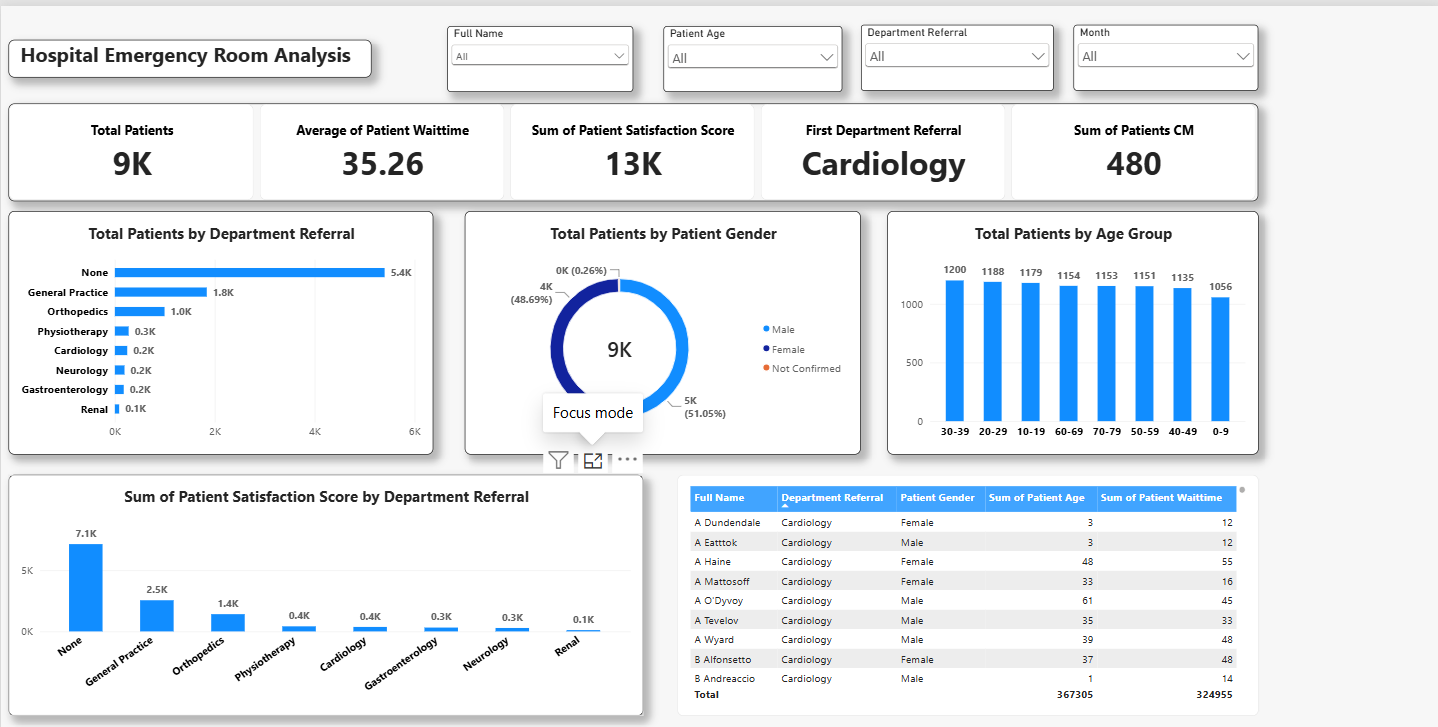

What the dashboard file says about the page in this screenshot:
{"tool":"powerbi","page":{"name":"Page 1","canvas":[1920,1080],"ordinal":0},"visuals":[{"type":"textbox","box":[10,45.7,484.3,50],"z":0},{"type":"slicer","fields":{"Values":["Hospital ER_Data.Full Name"]},"box":[595,26.7,248.3,88.3],"z":1000},{"type":"slicer","fields":{"Values":["Hospital ER_Data.Department Referral"]},"box":[1146.7,25,256.7,88.3],"z":2000},{"type":"slicer","fields":{"Values":["Hospital ER_Data.Patient Age"]},"box":[883.3,26.7,238.3,88.3],"z":3000},{"type":"slicer","fields":{"Values":["Date Table.Date.Variation.Date Hierarchy.Month"]},"box":[1430,25,246.7,88.3],"z":4000},{"type":"cardVisual","fields":{"Data":["Hospital ER_Data.Total Patients","Avg(Hospital ER_Data.Patient Waittime)","Sum(Hospital ER_Data.Patient Satisfaction Score)","Min(Hospital ER_Data.Department Referral)","Sum(Hospital ER_Data.Patients CM)"]},"box":[10,130,1666,130],"z":5000},{"type":"barChart","fields":{"Category":["Hospital ER_Data.Department Referral"],"Y":["Hospital ER_Data.Total Patients"]},"box":[10,273.3,566.7,325],"z":6000},{"type":"donutChart","fields":{"Category":["Hospital ER_Data.Patient Gender"],"Y":["Hospital ER_Data.Total Patients"]},"box":[618.3,273.3,528.3,325],"z":7000},{"type":"clusteredColumnChart","fields":{"Category":["Hospital ER_Data.Age Group"],"Y":["Hospital ER_Data.Total Patients"]},"box":[1181.7,273.3,495,325],"z":7001},{"type":"columnChart","fields":{"Category":["Hospital ER_Data.Department Referral"],"Y":["Sum(Hospital ER_Data.Patient Satisfaction Score)"]},"box":[10,625,846.7,321.7],"z":7002},{"type":"tableEx","fields":{"Values":["Hospital ER_Data.Full Name","Hospital ER_Data.Department Referral","Hospital ER_Data.Patient Gender","Sum(Hospital ER_Data.Patient Age)","Sum(Hospital ER_Data.Patient Waittime)"]},"box":[901.7,625,775,321.7],"z":7003}]}

Visuals, with their boxes on the page's 1920x1080 design canvas (x1, y1, x2, y2). These are canvas units, not pixel positions in the 1438x727 screenshot, which may show the page scaled, cropped or inside an application window:
textbox: 10, 46, 494, 96
slicer - Hospital ER_Data.Full Name: 595, 27, 843, 115
slicer - Hospital ER_Data.Department Referral: 1147, 25, 1403, 113
slicer - Hospital ER_Data.Patient Age: 883, 27, 1122, 115
slicer - Date Table.Date.Variation.Date Hierarchy.Month: 1430, 25, 1677, 113
cardVisual - Hospital ER_Data.Total Patients x Avg(Hospital ER_Data.Patient Waittime): 10, 130, 1676, 260
barChart - Hospital ER_Data.Department Referral x Hospital ER_Data.Total Patients: 10, 273, 577, 598
donutChart - Hospital ER_Data.Patient Gender x Hospital ER_Data.Total Patients: 618, 273, 1147, 598
clusteredColumnChart - Hospital ER_Data.Age Group x Hospital ER_Data.Total Patients: 1182, 273, 1677, 598
columnChart - Hospital ER_Data.Department Referral x Sum(Hospital ER_Data.Patient Satisfaction Score): 10, 625, 857, 947
tableEx - Hospital ER_Data.Full Name x Hospital ER_Data.Department Referral: 902, 625, 1677, 947
